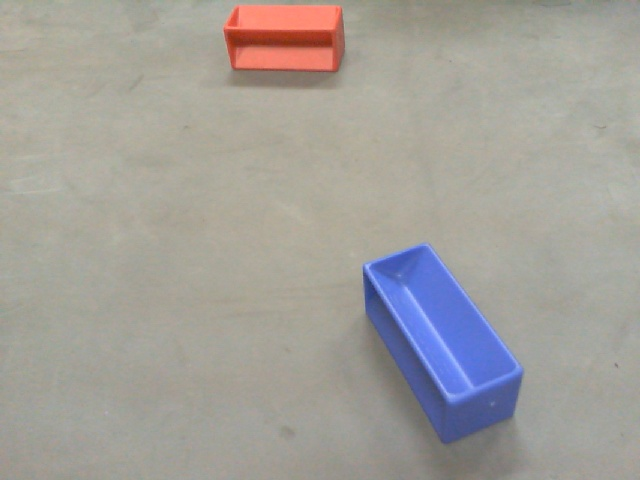BlueSample: (359, 238, 524, 448)
RedSample: (219, 2, 359, 74)
